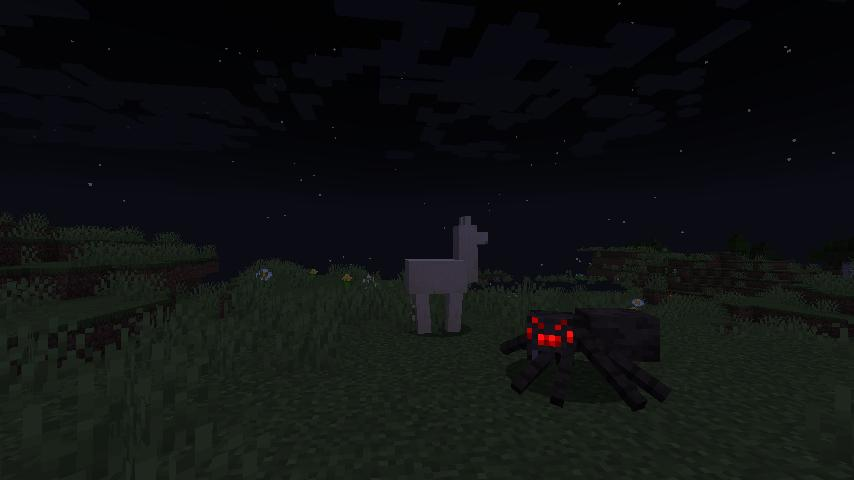llama: (401, 213, 491, 340)
spider: (498, 300, 674, 415)
